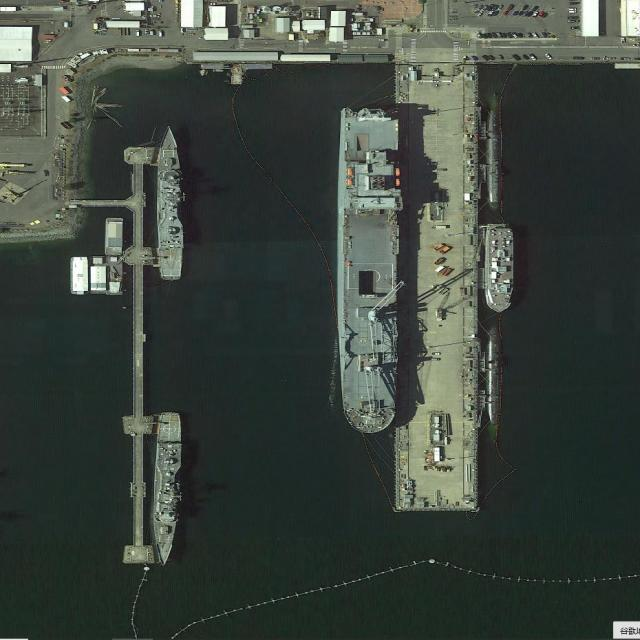Cargo: (335, 104, 405, 434)
Dock: (396, 64, 478, 512), (131, 164, 142, 549)
Frigate: (151, 412, 184, 566), (158, 126, 182, 279)
Other Warship: (485, 222, 516, 312)
Submarine: (485, 90, 502, 208), (484, 321, 499, 425)
